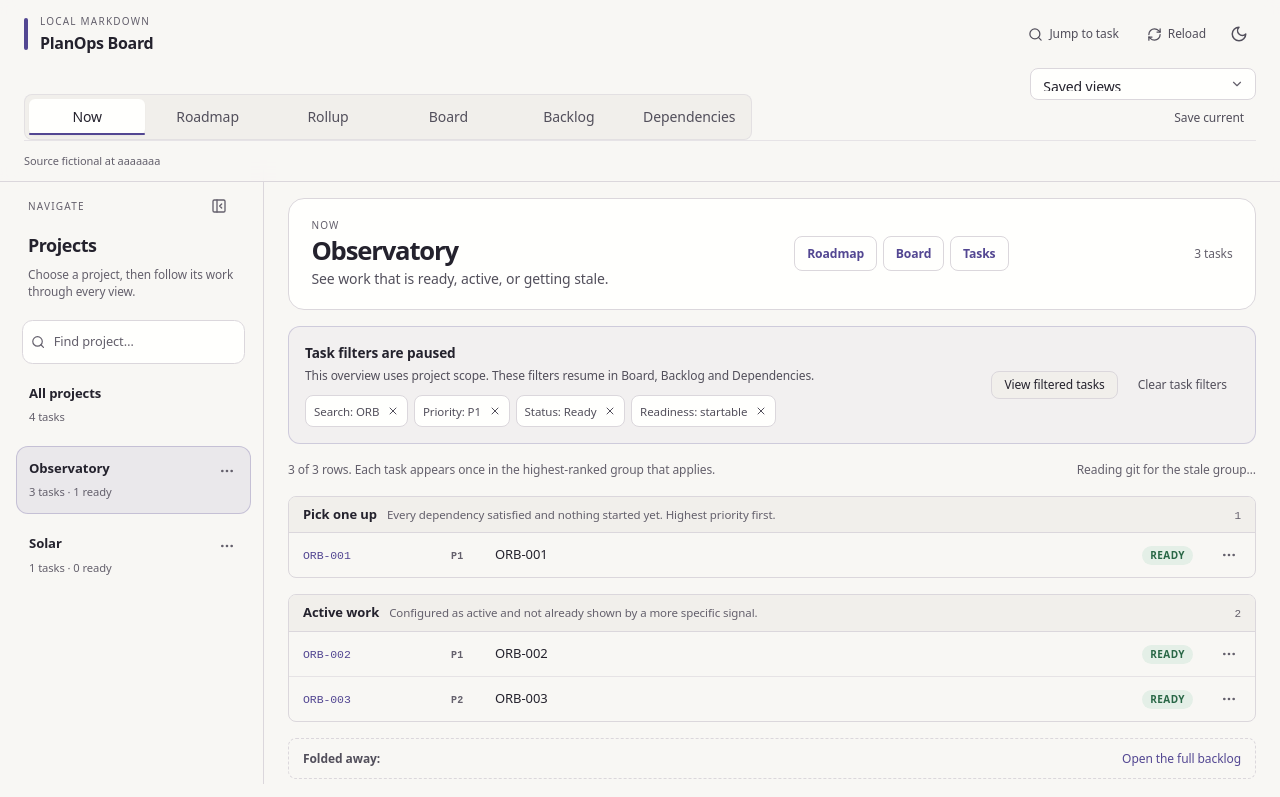
Test case: project scope and held filters › resets every row filter and the grouping when the rail selects a project from now
Click the button "Solar 1 tasks · 0 ready". click: (134, 555)
box: left=16, top=521, right=251, bottom=589
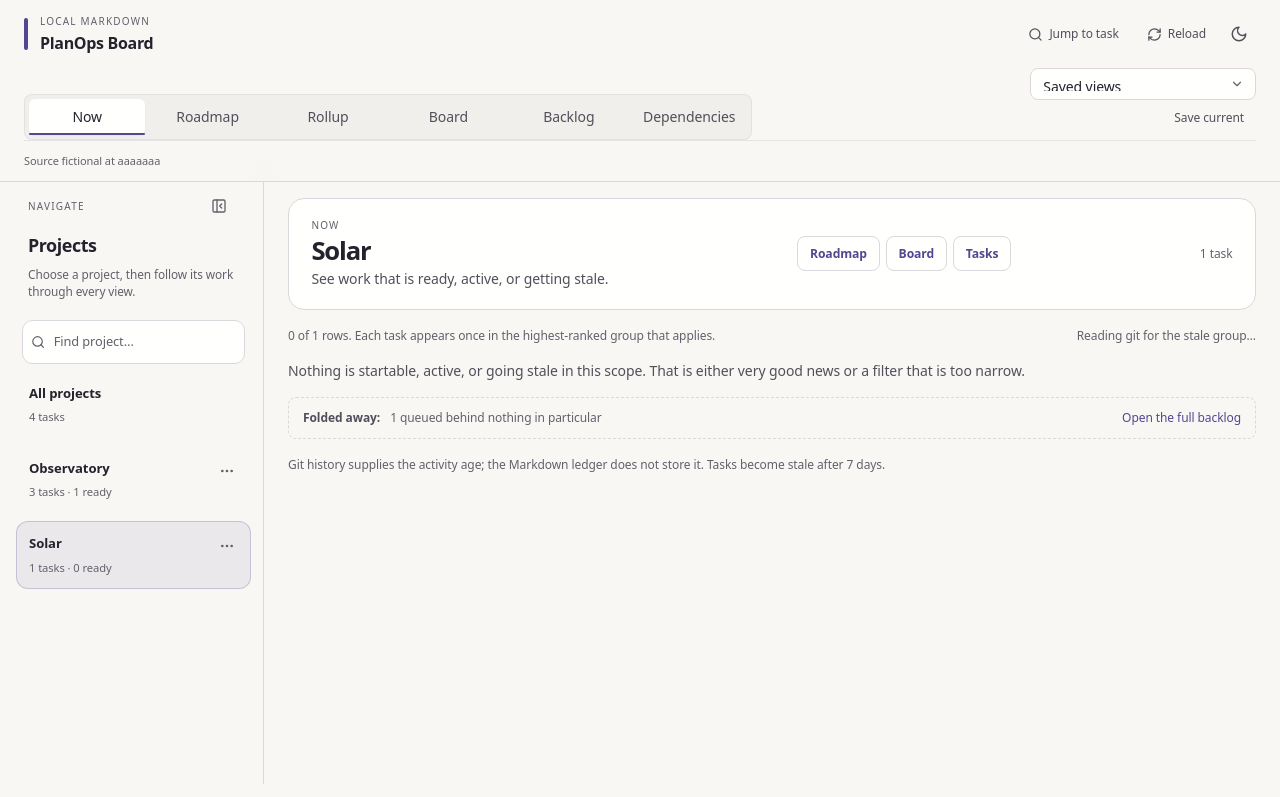
Expected: the heading "Solar" is shown, left=311, top=233, right=370, bottom=268
Click the radio button labelled "Backlog". click: (569, 117)
box: left=511, top=99, right=627, bottom=135
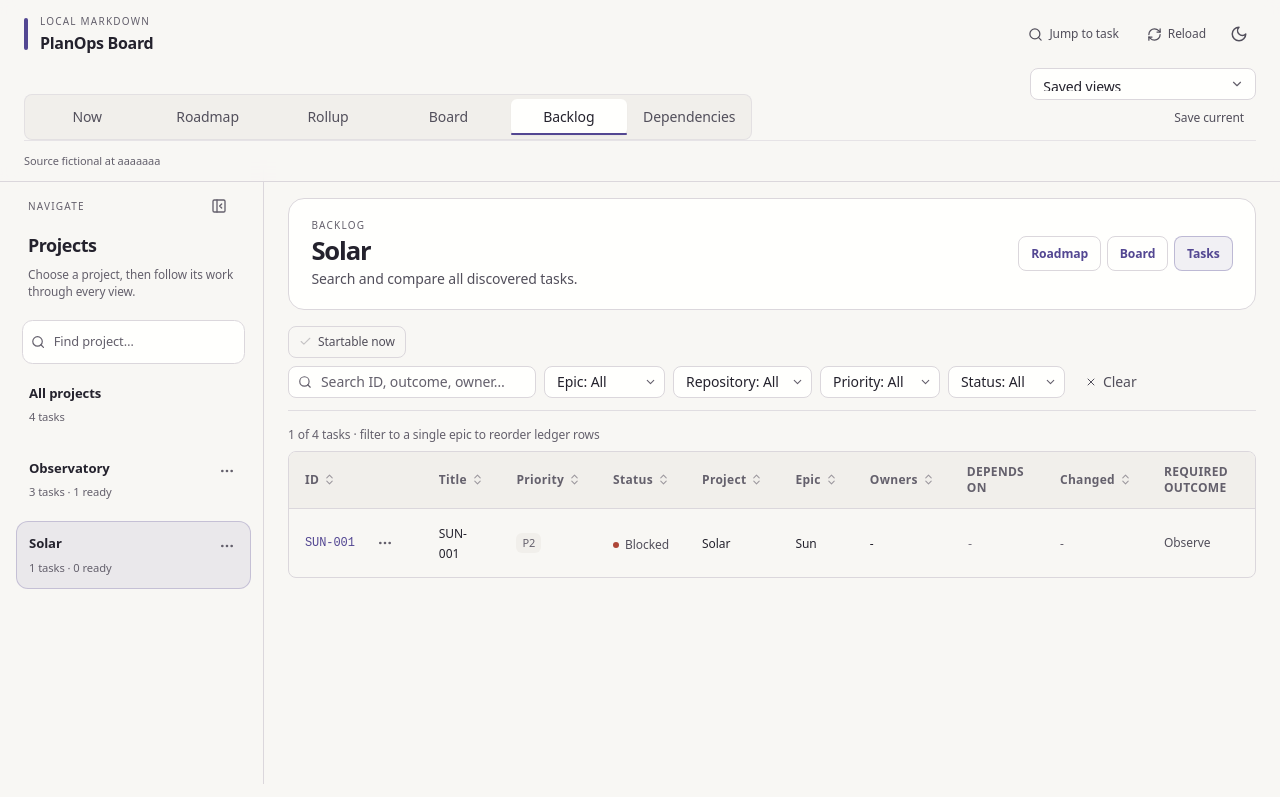
Expected: the button "ORB-001" is not shown
Expected: the button "SUN-001" is shown, left=305, top=534, right=355, bottom=550
Expected: the search field with placeholder "Search ID, outcome, owner…" is empty, left=288, top=366, right=536, bottom=398
